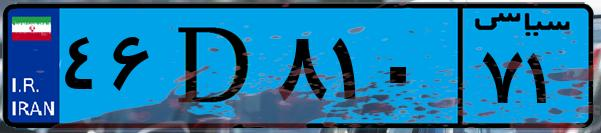0: (385, 28, 445, 110)
1: (330, 28, 385, 110), (525, 38, 570, 115)
4: (57, 26, 110, 100)
6: (110, 28, 158, 98)
7: (475, 38, 525, 113)
8: (270, 28, 330, 110)
D: (158, 12, 270, 120)
